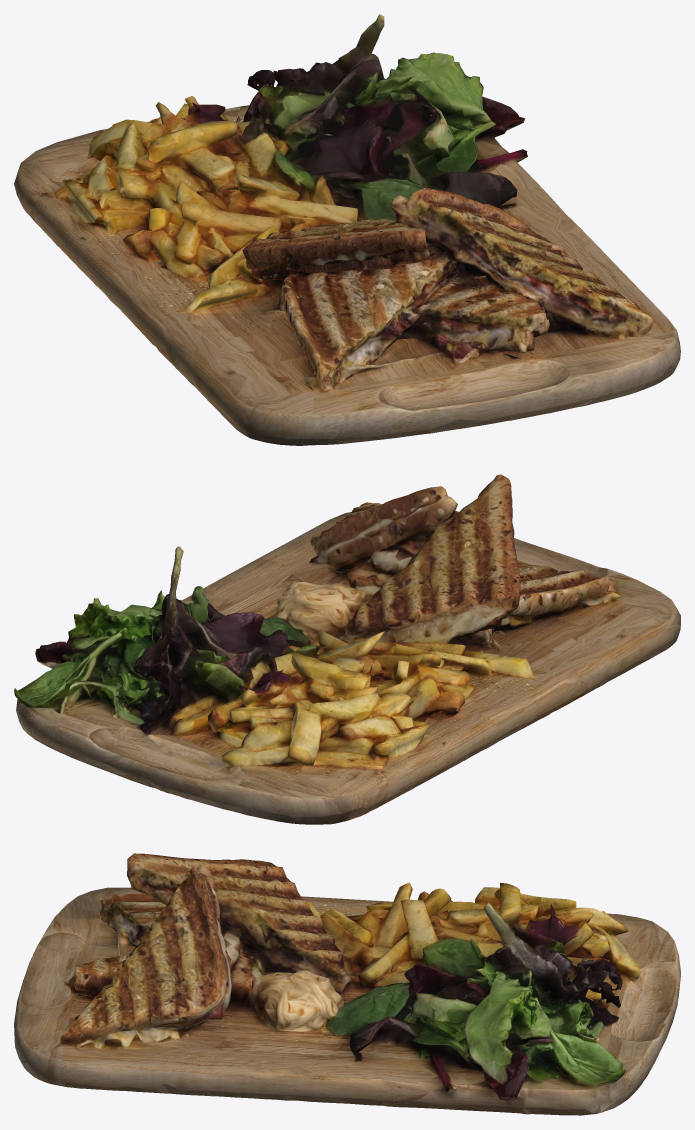
Rendered from grilled_sandwich.glb.
3 views of the same model, one above another, from view 1: azimuth 30°, elevation 25°; view 2: azimuth 150°, elevation 25°; view 3: azimuth 270°, elevation 25° (orthographic). The views are drawn at different scales.
Parts seen in each view (by area): view 1: 3DModel_LowPoly.001_0; view 2: 3DModel_LowPoly.001_0; view 3: 3DModel_LowPoly.001_0.
Part boxes in pixels (bbox=[...]): 3DModel_LowPoly.001_0: bbox=[14, 14, 680, 445]; 3DModel_LowPoly.001_0: bbox=[14, 474, 680, 824]; 3DModel_LowPoly.001_0: bbox=[14, 853, 680, 1115].
Size of the model in its own units: 0.2523 by 0.0868 by 0.3268.
Materials: 1 (1 with a texture image).
